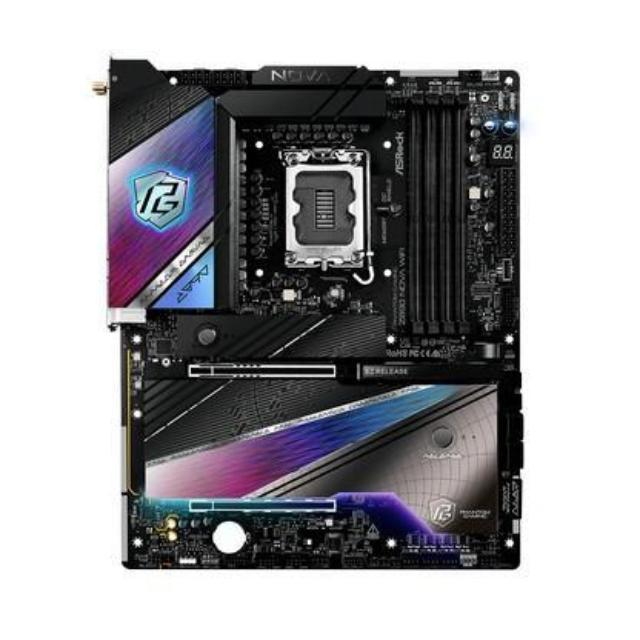Mainboard: (96, 34, 533, 574)
